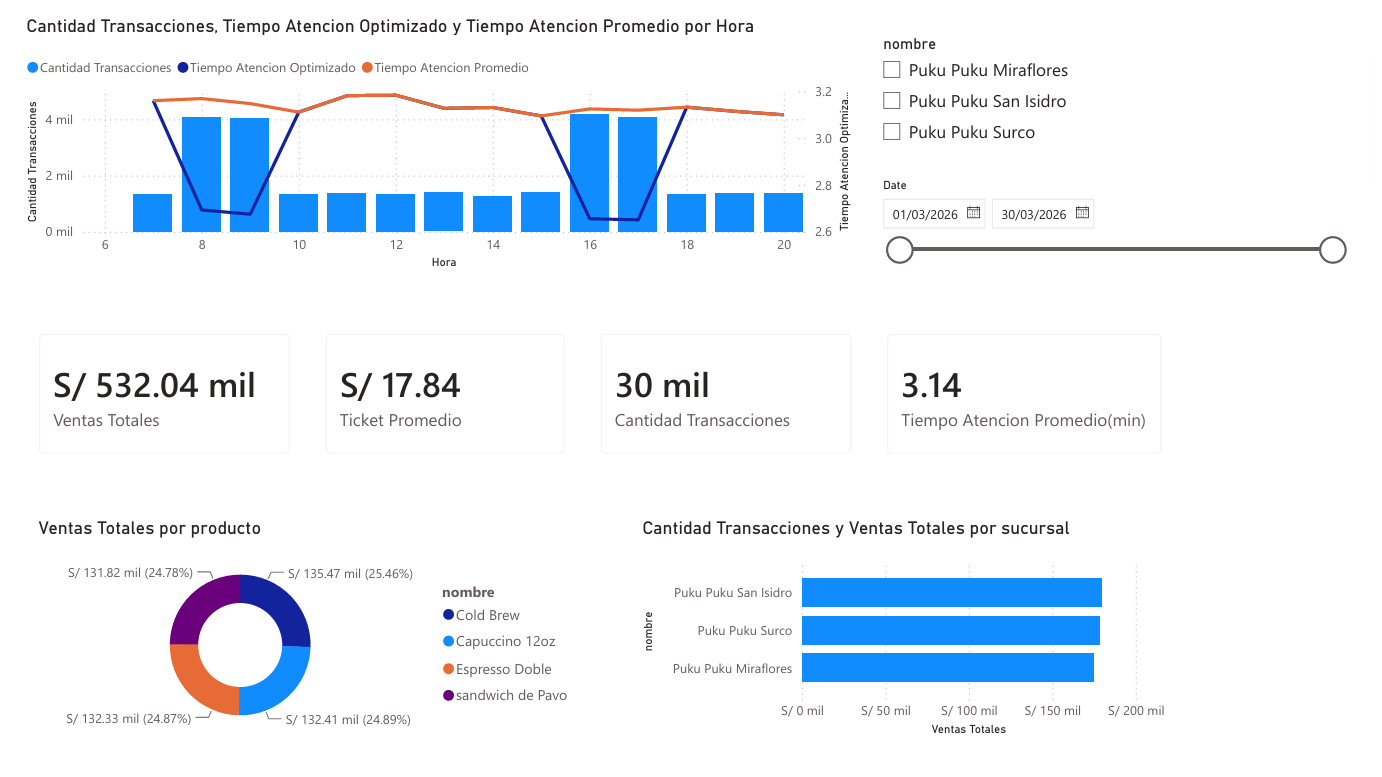

Layout of this report page (visuals, bound fields, positions):
{"tool":"powerbi","page":{"name":"Página 1","canvas":[1280,720],"ordinal":0},"visuals":[{"type":"lineClusteredColumnComboChart","fields":{"Category":["fact_ventas.Hora"],"Y":["_Medidas.Cantidad Transacciones"],"Y2":["_Medidas.Tiempo Atencion Optimizado","_Medidas.Tiempo Atencion Promedio"]},"box":[10,0,783.8,243.8],"z":0},{"type":"cardVisual","fields":{"Data":["_Medidas.Ventas Totales"]},"box":[10,283,269,146],"z":1000},{"type":"cardVisual","fields":{"Data":["_Medidas.Cantidad Transacciones"]},"box":[537,283,269,146],"z":2000},{"type":"cardVisual","fields":{"Data":["_Medidas.Ticket Promedio"]},"box":[279,283,258,146],"z":3000},{"type":"cardVisual","fields":{"Data":["_Medidas.Tiempo Atencion Promedio"]},"box":[806.2,282.5,291.2,146.2],"z":4000},{"type":"donutChart","title":"Ventas Totales por producto","fields":{"Category":["dim_productos.nombre"],"Y":["_Medidas.Ventas Totales"]},"box":[21,472,516,210],"z":5000},{"type":"clusteredBarChart","title":"Cantidad Transacciones y Ventas Totales por sucursal","fields":{"Category":["dim_sucursales.nombre"],"Y":["_Medidas.Ventas Totales"]},"box":[588,472,500,210],"z":6000},{"type":"slicer","fields":{"Values":["dim_sucursales.nombre"]},"box":[806,14,456,119],"z":7000},{"type":"slicer","fields":{"Values":["Dim_calendario.Date"]},"box":[806,149,456,134],"z":7001}]}

Visuals, with their boxes in screenshot pixels (x1, y1, x2, y2), scaled from the page's 1280x720 canvas onto the 1382x777 screenshot:
lineClusteredColumnComboChart - fact_ventas.Hora x _Medidas.Cantidad Transacciones: <bbox>11, 0, 857, 263</bbox>
cardVisual - _Medidas.Ventas Totales: <bbox>11, 305, 301, 463</bbox>
cardVisual - _Medidas.Cantidad Transacciones: <bbox>580, 305, 870, 463</bbox>
cardVisual - _Medidas.Ticket Promedio: <bbox>301, 305, 580, 463</bbox>
cardVisual - _Medidas.Tiempo Atencion Promedio: <bbox>870, 305, 1185, 463</bbox>
"Ventas Totales por producto" donutChart: <bbox>23, 509, 580, 736</bbox>
"Cantidad Transacciones y Ventas Totales por sucursal" clusteredBarChart: <bbox>635, 509, 1175, 736</bbox>
slicer - dim_sucursales.nombre: <bbox>870, 15, 1363, 144</bbox>
slicer - Dim_calendario.Date: <bbox>870, 161, 1363, 305</bbox>
